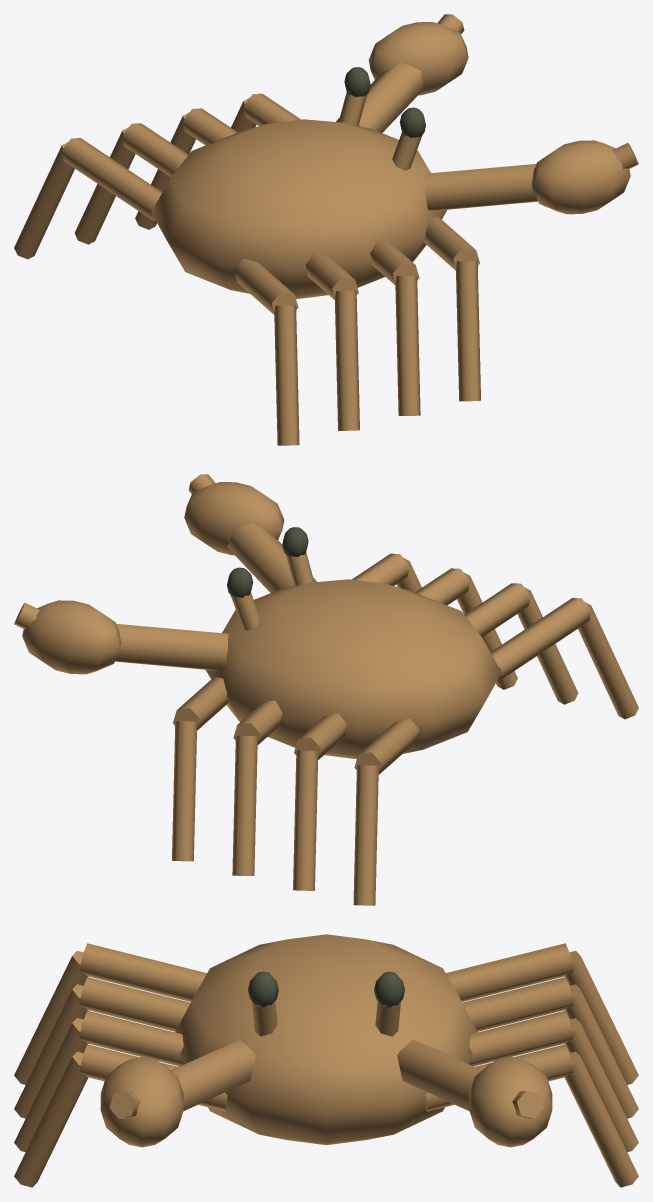
3 views of the same model, one above another, from view 1: azimuth 30°, elevation 25°; view 2: azimuth 150°, elevation 25°; view 3: azimuth 270°, elevation 25° (orthographic). The views are drawn at different scales.
Visible parts, largest first — view 1: Tidemark_articulated_shore_crab_shell, claw_right_shell, claw_left_shell, leg_0_0_shell, leg_1_0_shell, leg_1_3_shell, leg_1_1_shell, leg_1_2_shell, leg_0_1_shell, leg_0_2_shell, leg_0_3_shell, Tidemark_articulated_shore_crab_dark; view 2: Tidemark_articulated_shore_crab_shell, claw_left_shell, claw_right_shell, leg_1_0_shell, leg_0_0_shell, leg_0_3_shell, leg_0_1_shell, leg_0_2_shell, leg_1_1_shell, leg_1_2_shell, leg_1_3_shell, Tidemark_articulated_shore_crab_dark; view 3: Tidemark_articulated_shore_crab_shell, claw_left_shell, claw_right_shell, leg_0_0_shell, leg_1_0_shell, leg_0_1_shell, leg_1_1_shell, leg_0_2_shell, leg_1_2_shell, leg_0_3_shell, leg_1_3_shell, Tidemark_articulated_shore_crab_dark.
Boxes of the visible parts, <box> form: Tidemark_articulated_shore_crab_shell: <box>151,92,446,298</box>; claw_right_shell: <box>424,140,638,214</box>; claw_left_shell: <box>336,14,468,132</box>; leg_0_0_shell: <box>14,138,162,259</box>; leg_1_0_shell: <box>233,258,299,445</box>; leg_1_3_shell: <box>424,217,480,401</box>; leg_1_1_shell: <box>306,253,359,430</box>; leg_1_2_shell: <box>370,240,420,415</box>; leg_0_1_shell: <box>74,123,188,244</box>; leg_0_2_shell: <box>135,108,237,229</box>; leg_0_3_shell: <box>231,93,300,132</box>; Tidemark_articulated_shore_crab_dark: <box>344,67,425,137</box>; Tidemark_articulated_shore_crab_shell: <box>206,552,501,758</box>; claw_left_shell: <box>14,600,228,674</box>; claw_right_shell: <box>184,474,316,592</box>; leg_1_0_shell: <box>490,598,638,719</box>; leg_0_0_shell: <box>353,718,419,905</box>; leg_0_3_shell: <box>172,677,228,861</box>; leg_0_1_shell: <box>293,713,346,890</box>; leg_0_2_shell: <box>232,700,282,875</box>; leg_1_1_shell: <box>464,583,578,704</box>; leg_1_2_shell: <box>415,568,517,689</box>; leg_1_3_shell: <box>352,553,421,592</box>; Tidemark_articulated_shore_crab_dark: <box>227,527,308,597</box>; Tidemark_articulated_shore_crab_shell: <box>175,934,477,1145</box>; claw_left_shell: <box>397,1039,552,1147</box>; claw_right_shell: <box>100,1039,255,1147</box>; leg_0_0_shell: <box>446,943,638,1084</box>; leg_1_0_shell: <box>14,943,206,1084</box>; leg_0_1_shell: <box>462,977,638,1118</box>; leg_1_1_shell: <box>14,977,190,1118</box>; leg_0_2_shell: <box>468,1010,638,1151</box>; leg_1_2_shell: <box>14,1010,184,1151</box>; leg_0_3_shell: <box>425,1044,638,1187</box>; leg_1_3_shell: <box>14,1044,227,1187</box>; Tidemark_articulated_shore_crab_dark: <box>248,971,404,1007</box>.
Bounding box in the file's own units: 0.5449 × 0.2697 × 0.6441.
